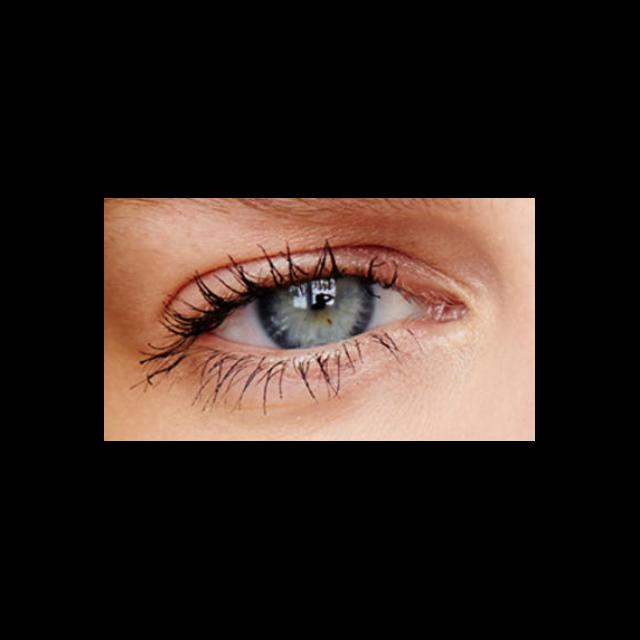eye: (208, 279, 418, 351)
iris: (257, 284, 372, 349)
